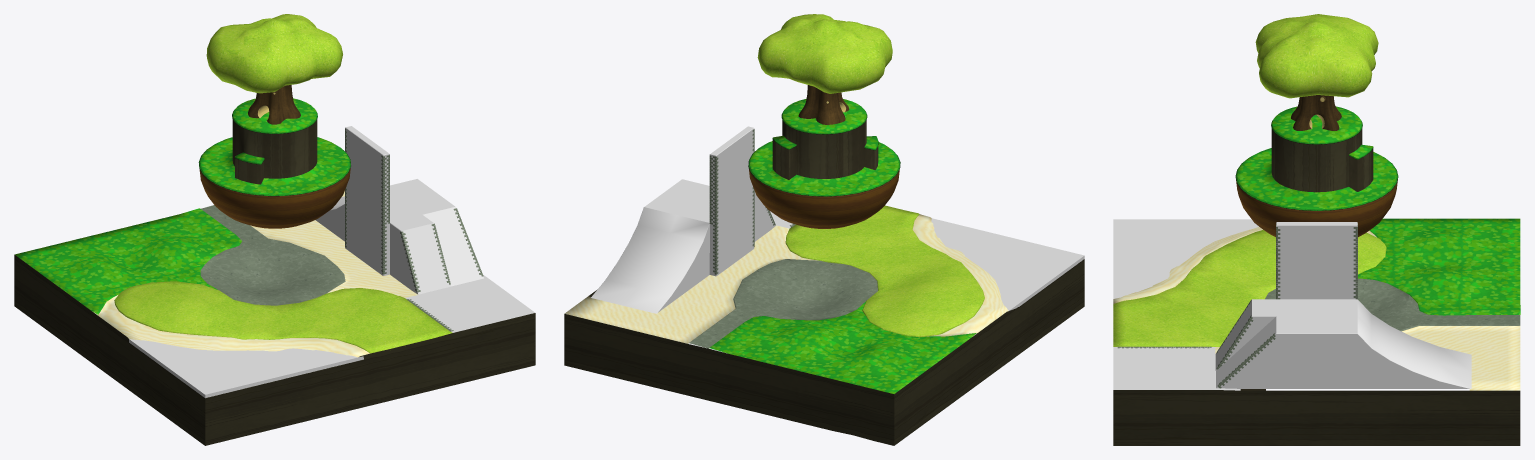
File: SkySweptFortress.fbx
3 renders of one model, left to right at view 1: azimuth 30°, elevation 25°; view 2: azimuth 150°, elevation 25°; view 3: azimuth 270°, elevation 25°, orthographic. The views are drawn at different scales.
Parts seen in each view (by area): view 1: SkyIsland, Grass, Brick_Struct_1, SmallIsland, Leaves, Water, Trunk; view 2: SkyIsland, Brick_Struct_1, SmallIsland, Grass, Leaves, Water, Trunk; view 3: SkyIsland, Brick_Struct_1, SmallIsland, Grass, Leaves, Water, Trunk.
Boxes of the visible parts, x1,y1,x2,y2 form: SkyIsland: (14,191,535,445); Grass: (114,281,452,353); Brick_Struct_1: (315,126,483,294); SmallIsland: (198,98,350,228); Leaves: (206,14,342,93); Water: (129,339,363,398); Trunk: (248,85,300,124); SkyIsland: (564,211,1084,445); Brick_Struct_1: (591,126,775,313); SmallIsland: (748,98,900,228); Grass: (785,205,984,337); Leaves: (757,14,892,93); Water: (931,218,1084,310); Trunk: (798,85,848,124); SkyIsland: (1113,218,1520,445); Brick_Struct_1: (1215,222,1471,388); SmallIsland: (1235,106,1398,236); Grass: (1113,229,1386,346); Leaves: (1255,14,1378,98); Water: (1113,219,1258,298); Trunk: (1291,95,1341,130).
Size of what is drawn, in the model's own units: 10000 by 9131 by 10006.
